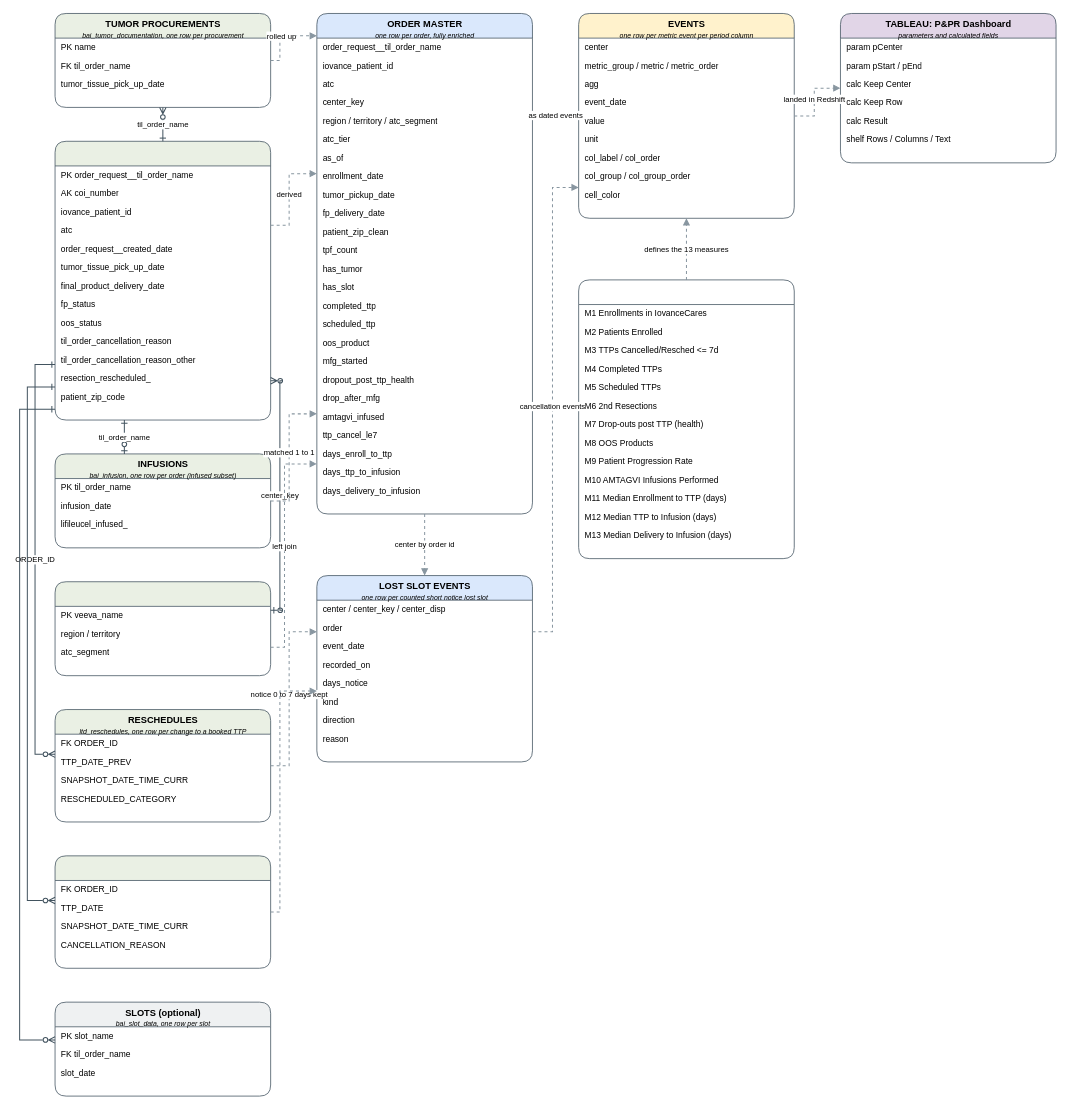
This 1070x1110 diagram has some shape labels left out. Each missing label, with the box of its shape:
CANCELLATIONS ltd_cancellations, one row per cancelled TTP: (54, 855, 271, 968)
CENTER MAPPING veeva_komodo_atc_mapping, one row per center: (54, 581, 271, 676)
METRIC DEFINITIONS M1 TO M13 hover each measure for its exact formula: (578, 279, 794, 559)
ORDERS bai_list_of_orders, HUB, one row per TIL order: (54, 141, 271, 420)
